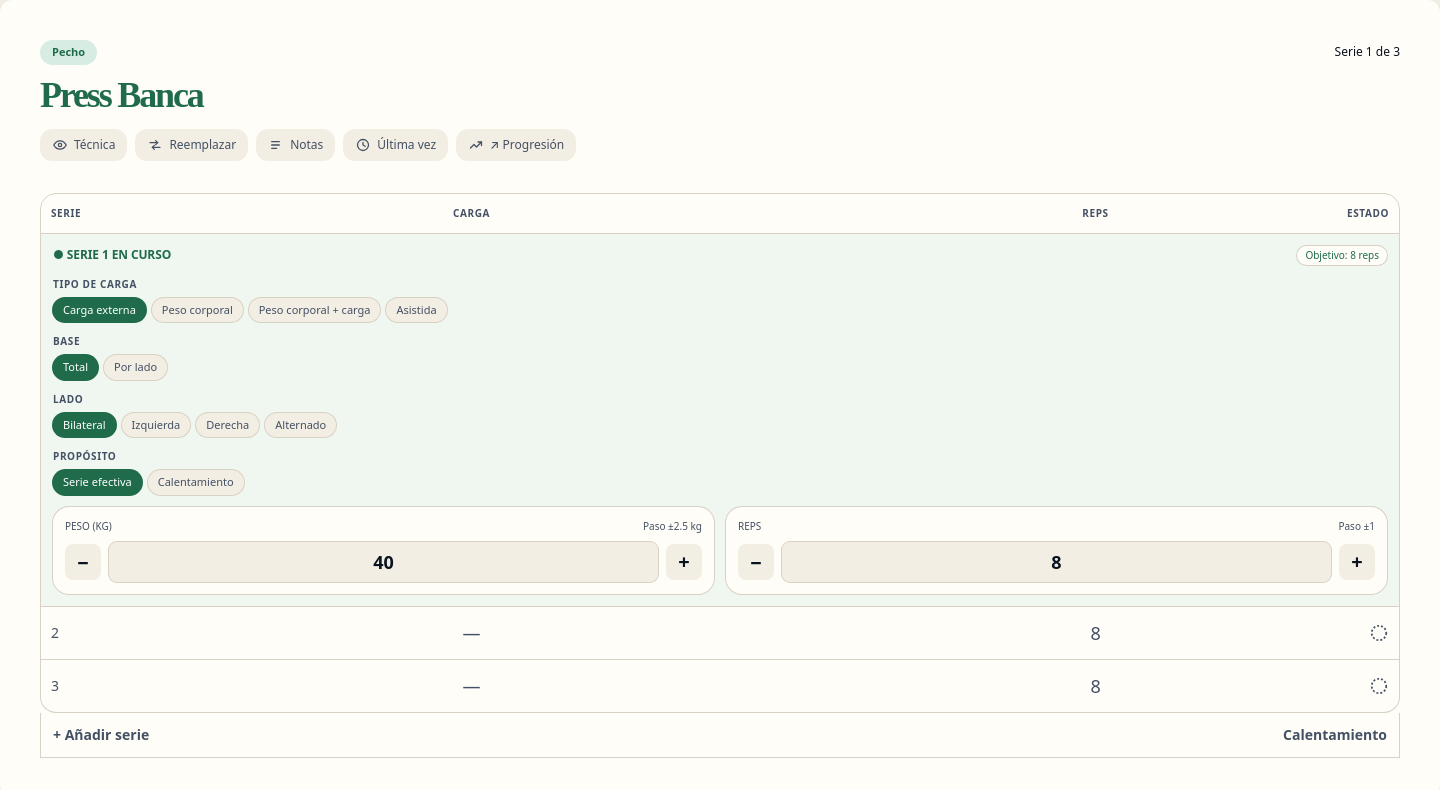
Scenario: GuidedExerciseCard › comparable progression › loads the comparable card for a valid external cohort
This screenshot has width=1440, height=790.
Click the button with aria-label "Mostrar progresión comparable" at coordinates (516, 144), box [456,128,576,160]
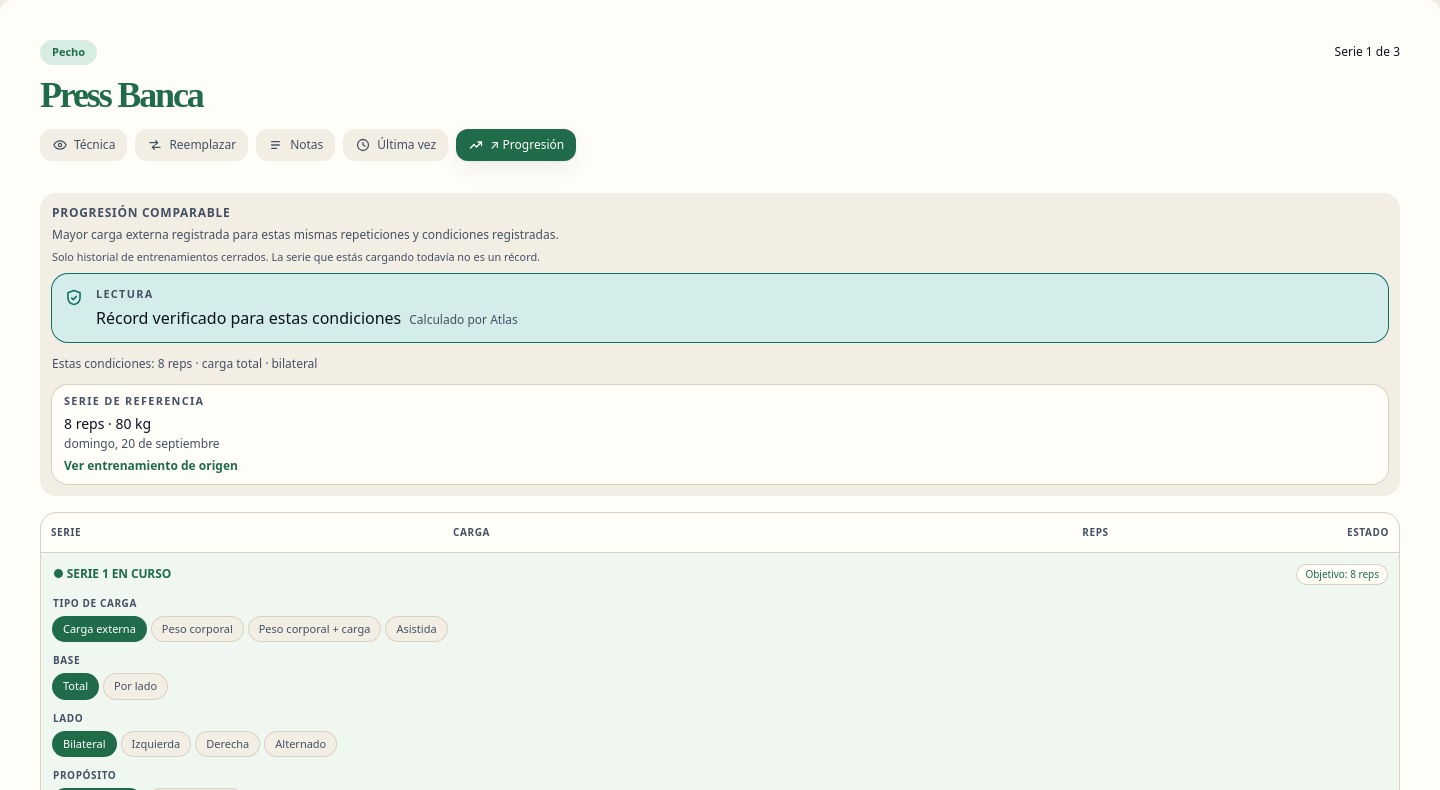
Check: the element with test id "progression-ready" is shown, box [52,274,1388,484]
Check: the element with test id "progression-conclusion" shows "Récord verificado para estas condiciones", box [96,307,401,329]
